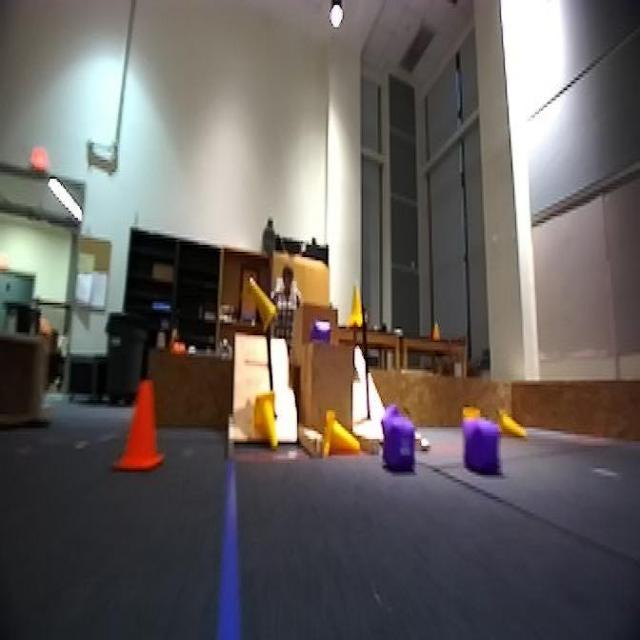frc_cone: (318, 408, 363, 464), (249, 393, 282, 451), (246, 276, 278, 334), (499, 407, 531, 436), (346, 277, 364, 327)
frc_cube: (458, 408, 505, 482), (378, 410, 420, 473), (312, 318, 334, 344)
